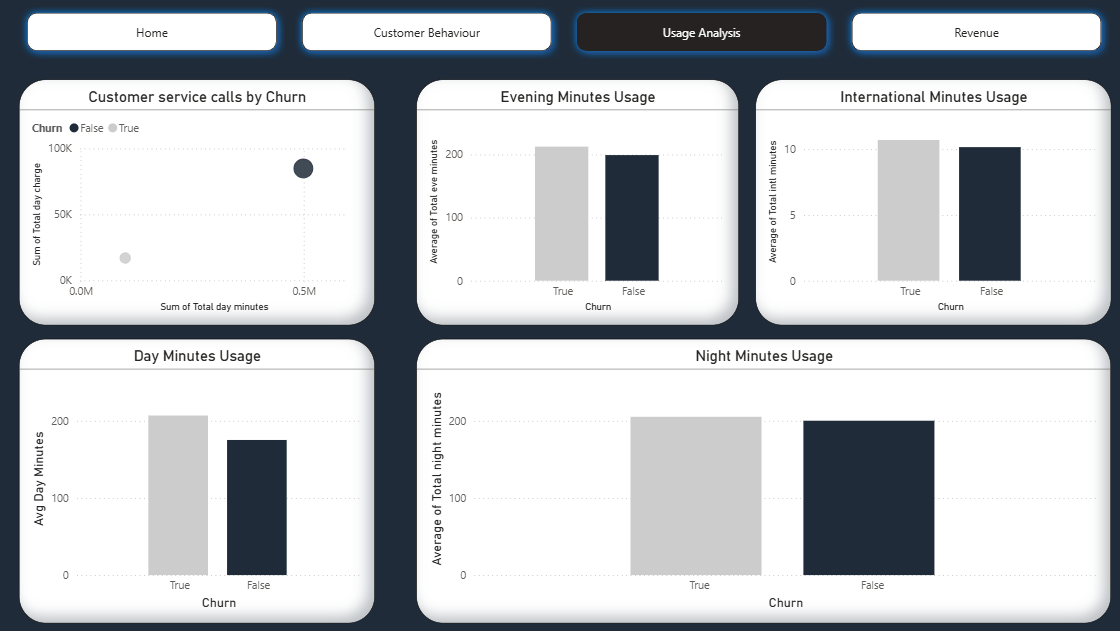

The dashboard page shown, as its layout file describes it:
{"tool":"powerbi","page":{"name":"Usage Analysis","canvas":[1280,720],"ordinal":2},"visuals":[{"type":"columnChart","title":"Day Minutes Usage","fields":{"Category":["Churn Prdiction Data 2.Churn"],"Y":["Churn Prdiction Data 2.Avg Day Minutes"]},"box":[27.9,387.4,398.6,318.5],"z":0},{"type":"columnChart","title":"Night Minutes Usage","fields":{"Category":["Churn Prdiction Data 2.Churn"],"Y":["Avg(Churn Prdiction Data 2.Total night minutes)"]},"box":[473.1,387.4,778.6,318.5],"z":1},{"type":"columnChart","title":"Evening Minutes Usage","fields":{"Category":["Churn Prdiction Data 2.Churn"],"Y":["Avg(Churn Prdiction Data 2.Total eve minutes)"]},"box":[473.1,96.9,361.4,275.7],"z":2},{"type":"columnChart","title":"International Minutes Usage","fields":{"Category":["Churn Prdiction Data 2.Churn"],"Y":["Avg(Churn Prdiction Data 2.Total intl minutes)"]},"box":[853.1,96.9,398.6,275.7],"z":3},{"type":"scatterChart","title":"Customer service calls by Churn","fields":{"X":["Sum(Churn Prdiction Data 2.Total day minutes)"],"Y":["Sum(Churn Prdiction Data 2.Total day charge)"],"Series":["Churn Prdiction Data 2.Churn"],"Size":["Sum(Churn Prdiction Data 2.Customer service calls)"]},"box":[27.9,96.9,398.6,275.7],"z":4},{"type":"pageNavigator","box":[27.9,13,1223.8,61.5],"z":5}]}

Visuals, with their boxes in screenshot pixels (x1, y1, x2, y2), scaled from the page's 1280x720 canvas onto the 1120x631 screenshot:
"Day Minutes Usage" columnChart: [x1=24, y1=340, x2=373, y2=619]
"Night Minutes Usage" columnChart: [x1=414, y1=340, x2=1095, y2=619]
"Evening Minutes Usage" columnChart: [x1=414, y1=85, x2=730, y2=327]
"International Minutes Usage" columnChart: [x1=746, y1=85, x2=1095, y2=327]
"Customer service calls by Churn" scatterChart: [x1=24, y1=85, x2=373, y2=327]
pageNavigator: [x1=24, y1=11, x2=1095, y2=65]
